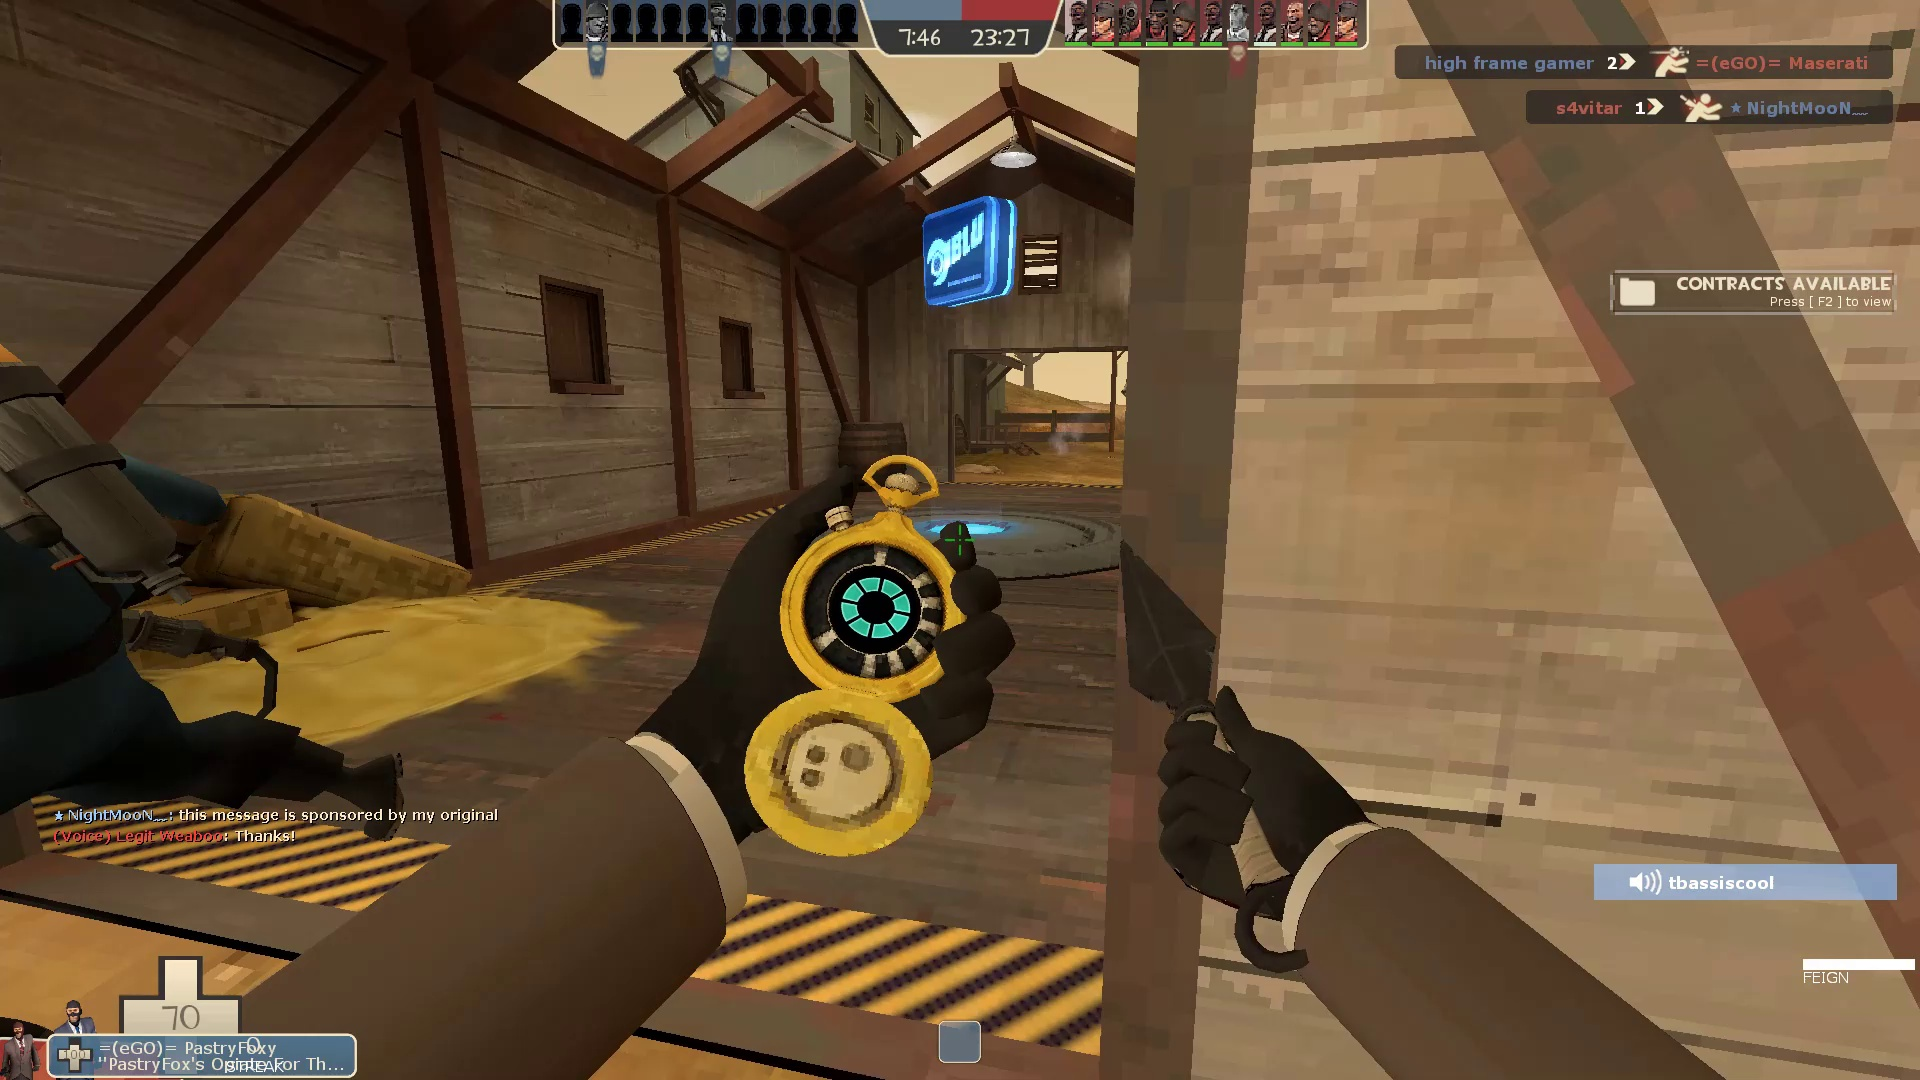blu_pyro: (1, 278, 438, 957)
